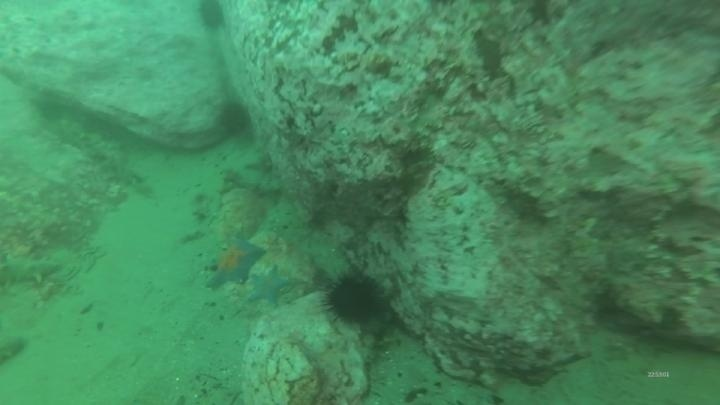echinus: (319, 267, 389, 329), (215, 98, 253, 138), (194, 1, 229, 34)
holothurian: (0, 251, 65, 290)
starfish: (202, 232, 267, 291), (245, 263, 294, 308)
